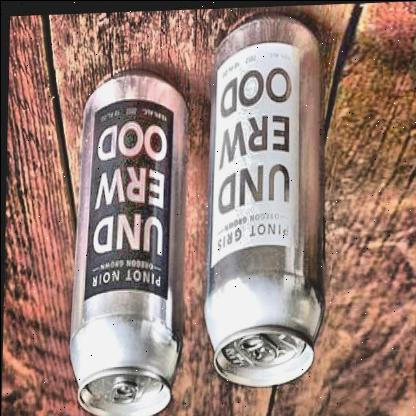Can: (201, 13, 327, 387), (70, 68, 188, 416)
